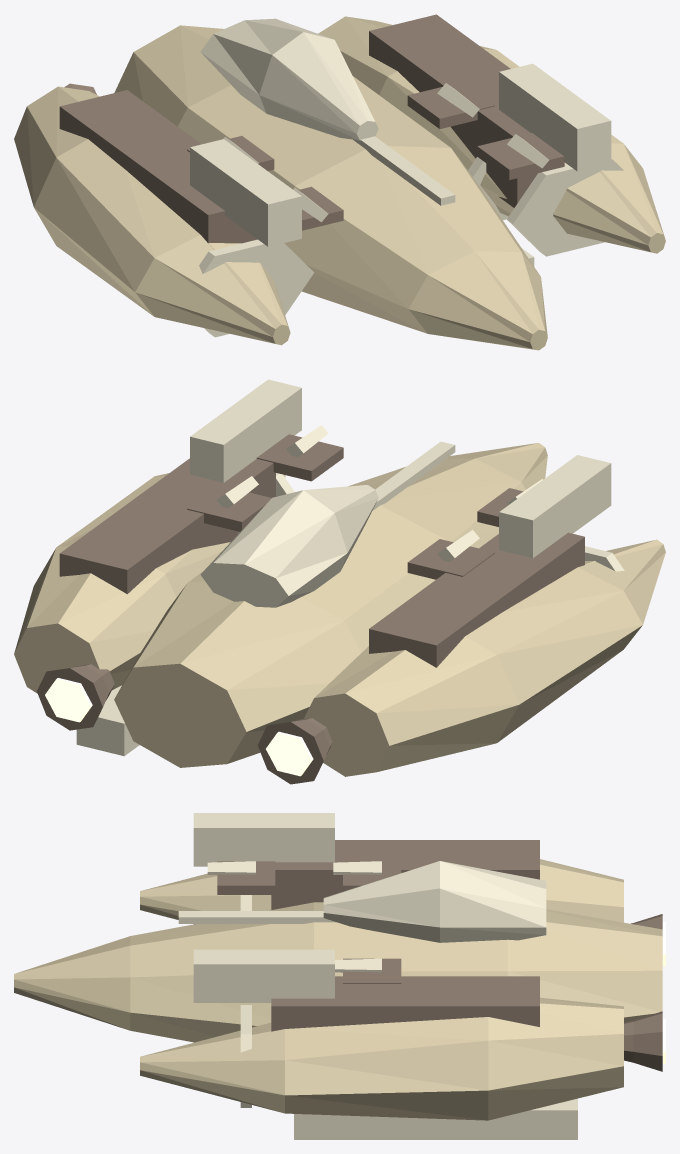
3 views of the same model, one above another, from view 1: azimuth 30°, elevation 25°; view 2: azimuth 150°, elevation 25°; view 3: azimuth 270°, elevation 25° (orthographic). The views are drawn at different scales.
Bounding box in the file's own units: 15.01 × 6.64 × 18.45.
